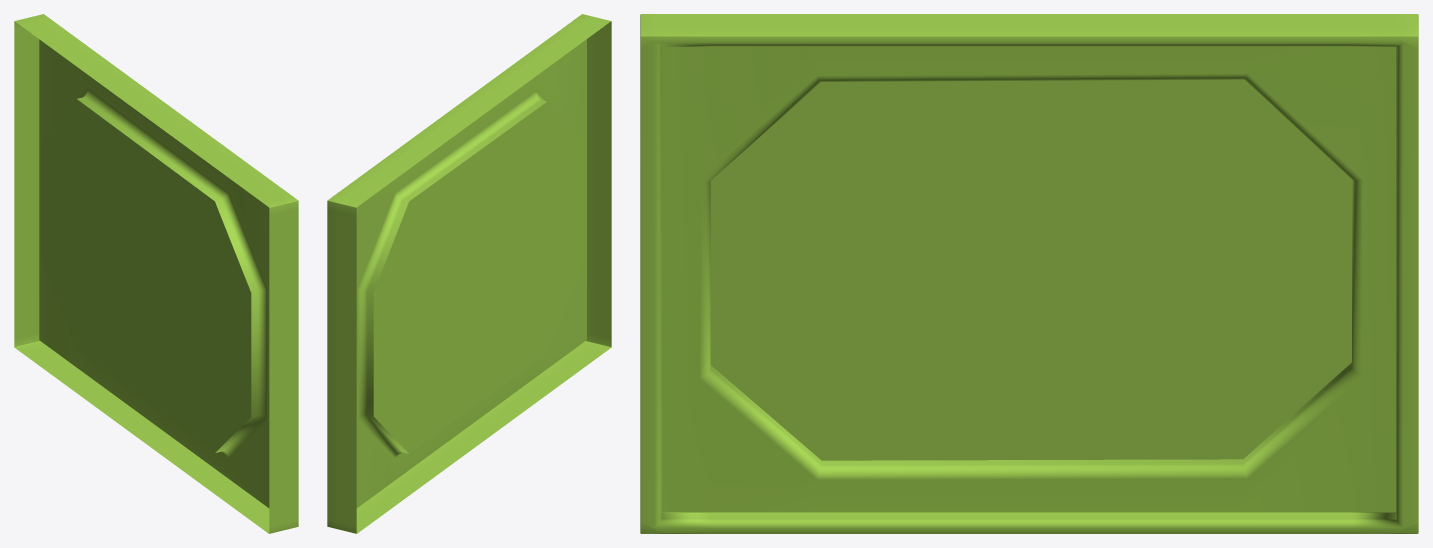
The model's file is Picture Frame 2_01.fbx.
The picture shows the model from 3 angles, left to right: view 1: azimuth 30°, elevation 25°; view 2: azimuth 150°, elevation 25°; view 3: azimuth 270°, elevation 25°; orthographic projection. The views are drawn at different scales.
Parts seen in each view (by area): view 1: polySurface6; view 2: polySurface6; view 3: polySurface6.
Boxes of the visible parts, left/top/right/bottom form: polySurface6: left=14, top=14, right=298, bottom=533; polySurface6: left=327, top=14, right=611, bottom=533; polySurface6: left=640, top=14, right=1418, bottom=533.
Bounding box in the file's own units: 0.3385 × 3.57 × 5.06.
